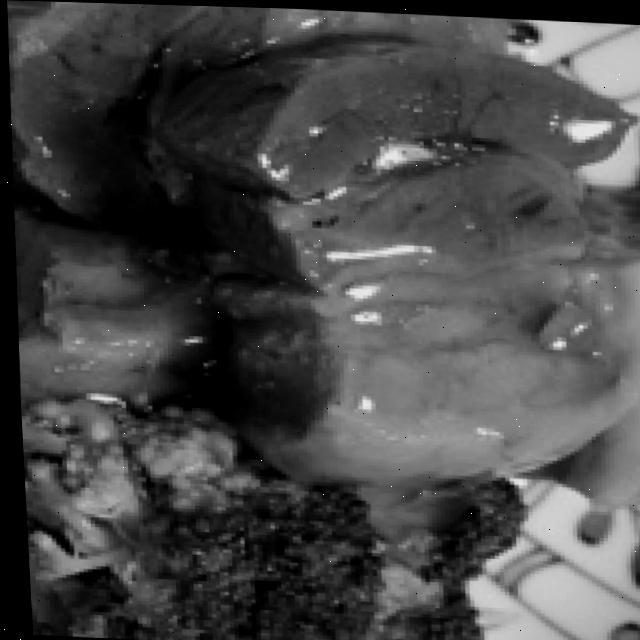猪肉菜式: (0, 0, 640, 529)
